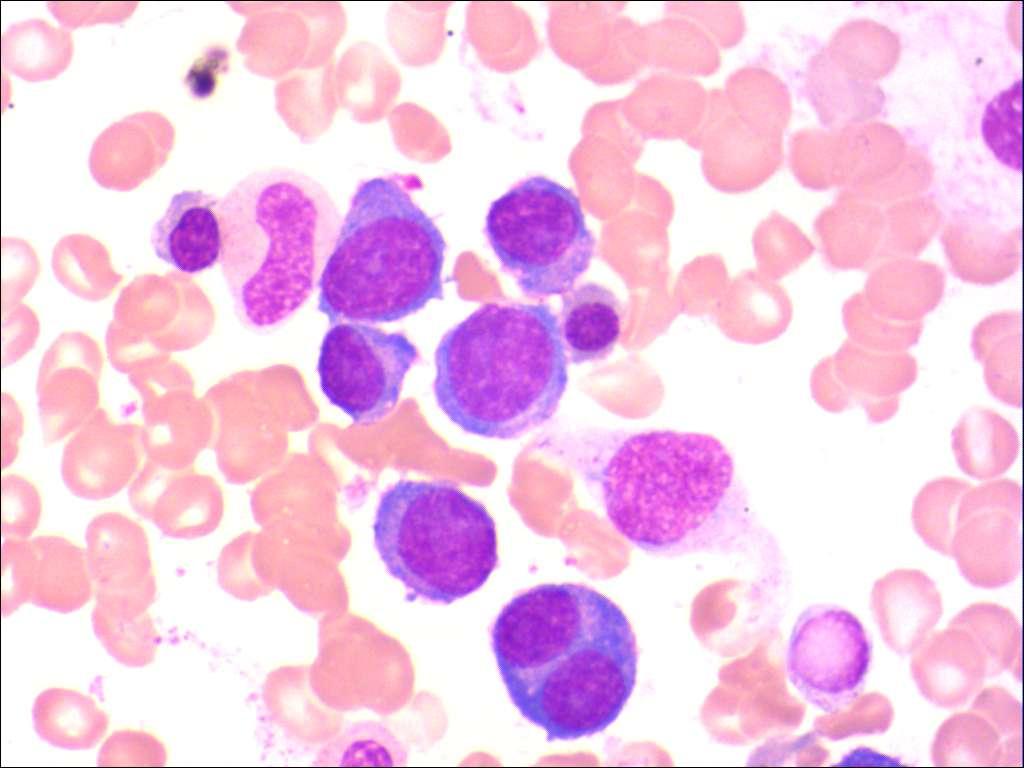23: (147, 186, 222, 278)
24: (557, 279, 628, 367)
5: (220, 163, 344, 335)
51: (485, 579, 641, 722), (312, 170, 450, 327), (428, 300, 571, 444), (367, 475, 503, 611), (479, 171, 601, 301), (313, 320, 423, 428)
x: (530, 419, 794, 648), (919, 60, 1024, 222), (781, 600, 874, 720), (306, 716, 411, 768)
